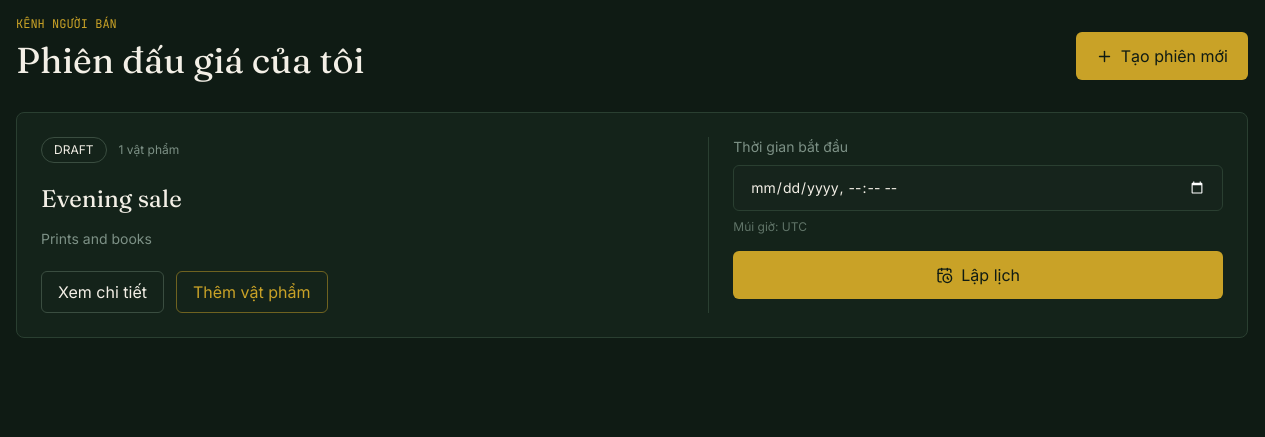
Test: MyAuctionsPage › renders the sanitized backend conflict code
The width and height of the screenshot is (1265, 437).
Expected: the heading "Evening sale" is shown, 41,184 -> 182,213
Type "2027-01-15T08:00" into the field labelled "Thời gian bắt đầu". click: (978, 188)
box: 733,165 -> 1223,211
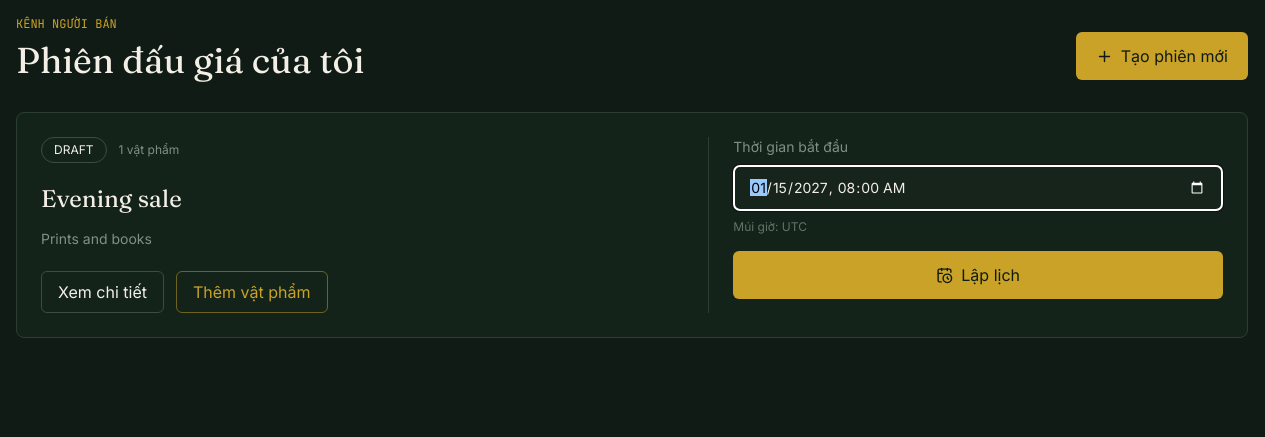
Click the button "Lập lịch". click: (978, 275)
box: 733,251 -> 1223,299
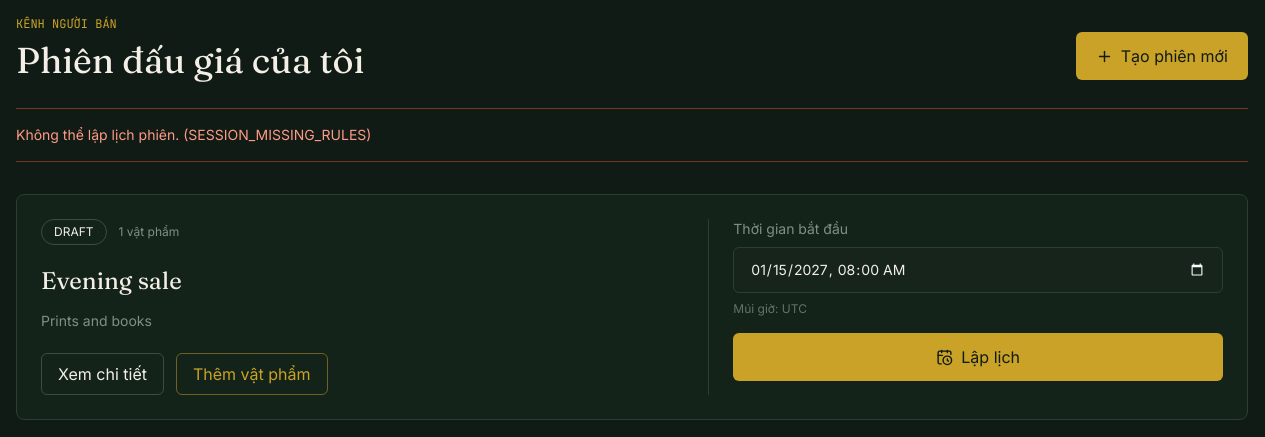
Result: the message shows "SESSION_MISSING_RULES" at 16,126 -> 371,143
